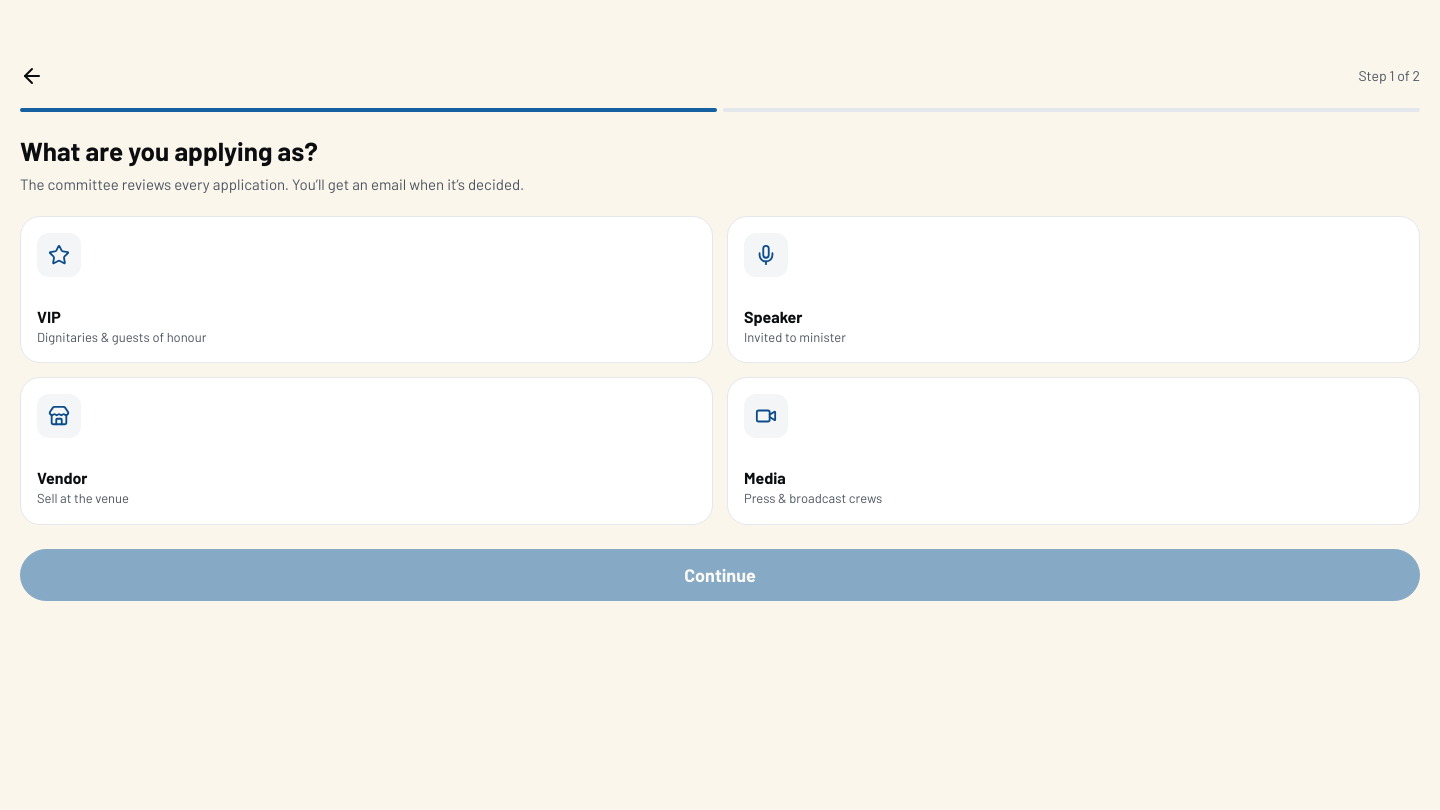
it: Apply (phone) › needs a role before continuing, then asks the role's questions
Expected: the heading "What are you applying as?" is shown, [20, 135, 318, 166]
Expected: the text "Step 1 of 2" is shown, [1358, 66, 1420, 86]
Click the radio button labelled "Media Press & broadcast crews" at (766, 416), box [727, 377, 1420, 525]
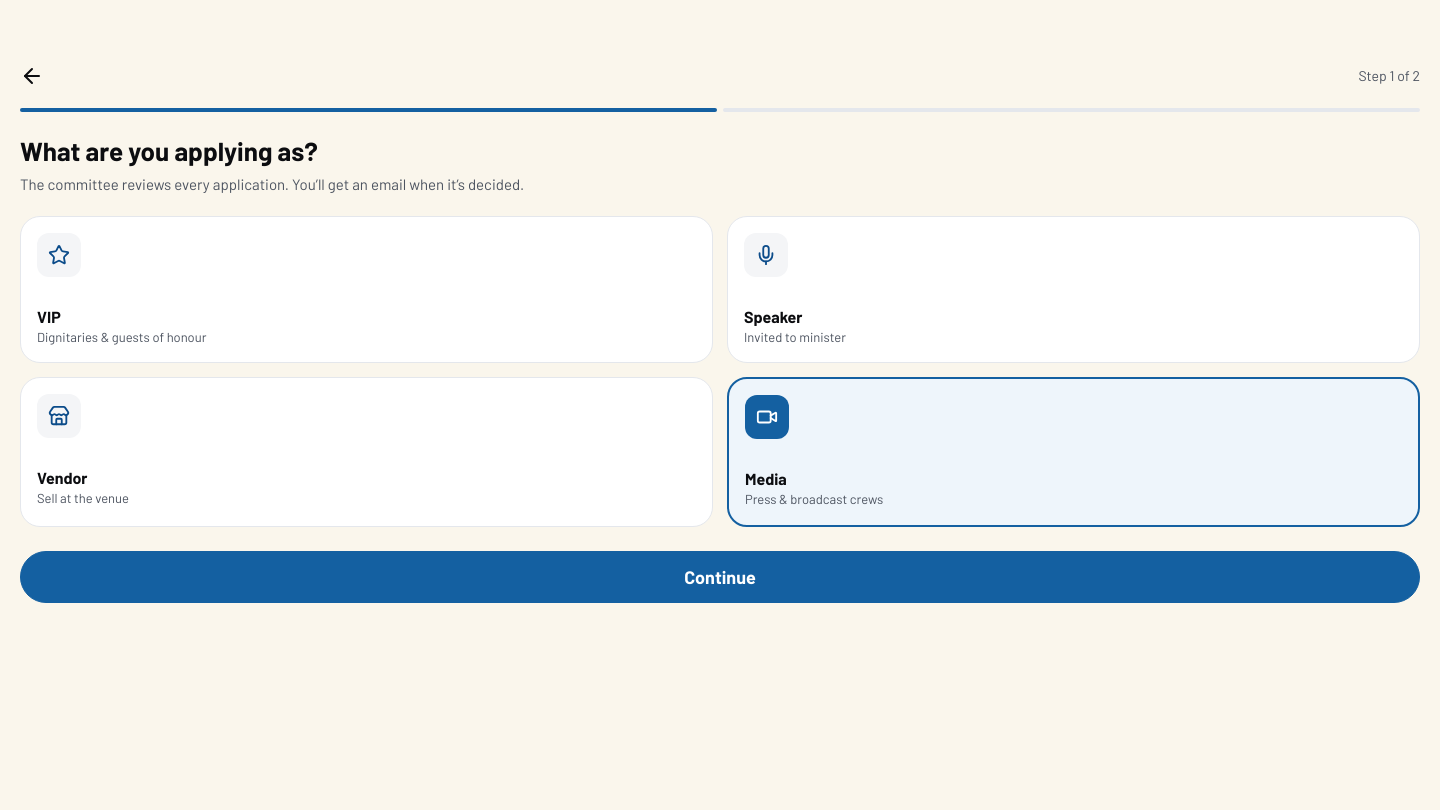
Click the button "Continue" at (720, 577), box [20, 551, 1420, 603]
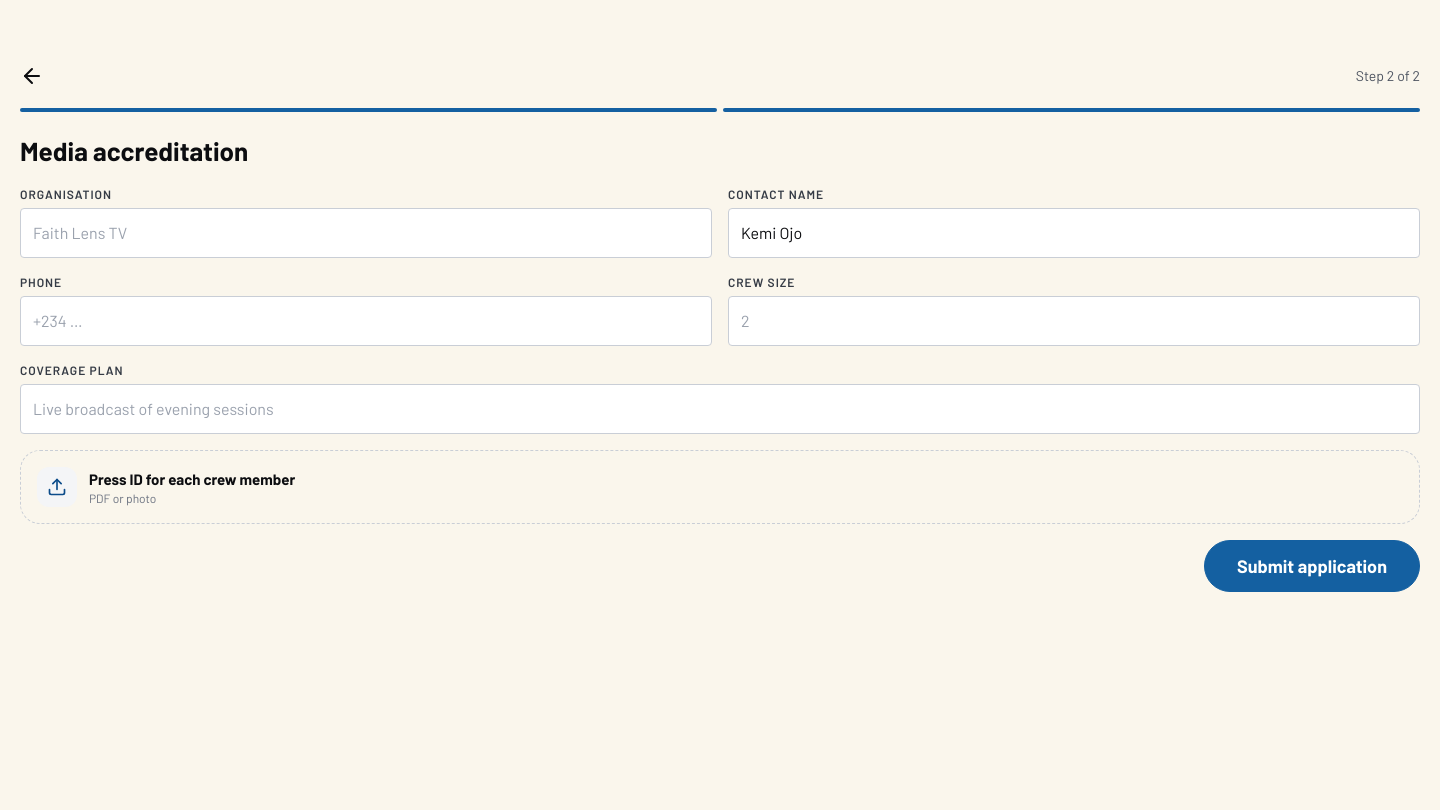
Result: the text "Step 2 of 2" is shown at [1356, 66, 1420, 86]
Result: the heading "Media accreditation" is shown at [20, 135, 248, 166]
Result: the field labelled "Contact name" holds "Kemi Ojo" at [741, 209, 1407, 257]
